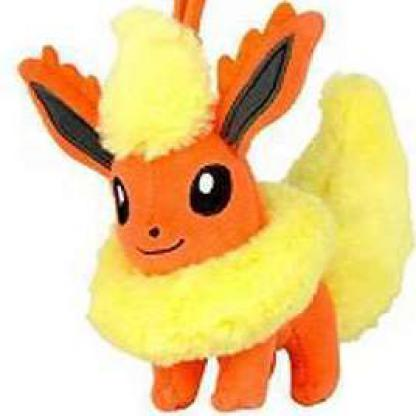Flareon: (14, 1, 416, 414)
